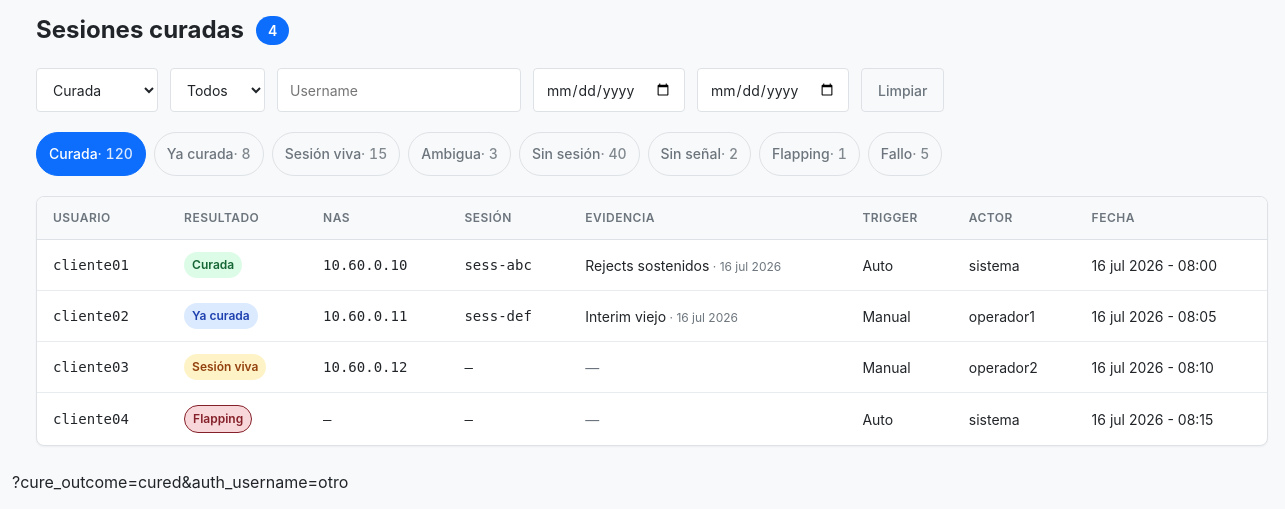
Test case: RadiusSessionCuresPage — filtros en la URL › el botón Limpiar borra SOLO los cure_* de la URL
The image size is (1285, 509).
What coordinates should you click on to do the following:
click the button "Limpiar"
I would click on:
 (903, 90)
Its box is top-left (861, 68), bottom-right (944, 112).
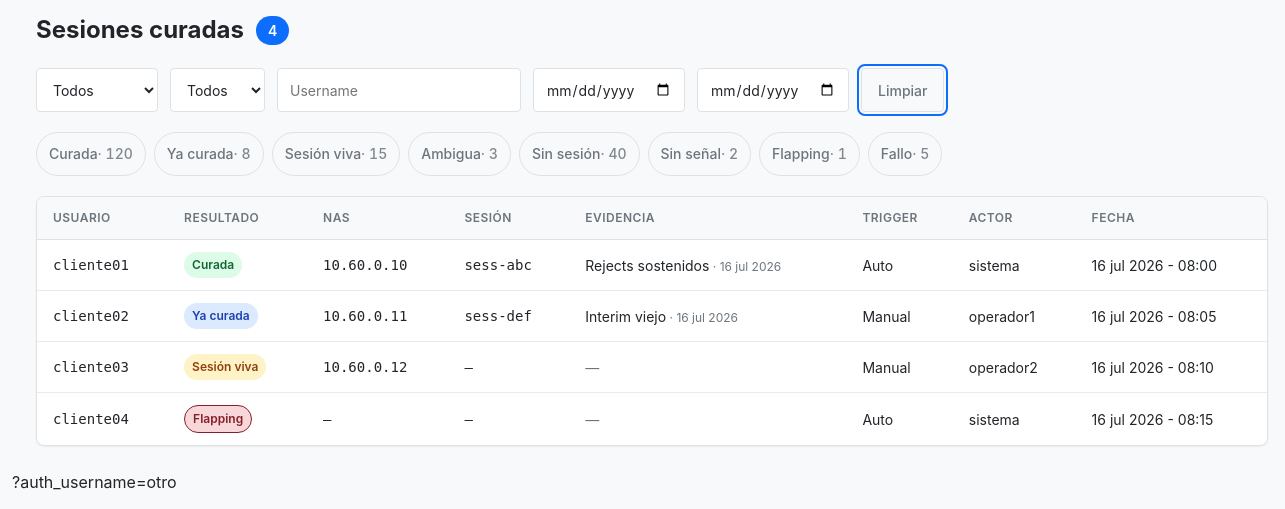
Expected: the text with test id "location-search" shows "auth_username=otro", top-left (12, 472), bottom-right (177, 492)
Now the text with test id "location-search" no longer shows "cure_outcome"
